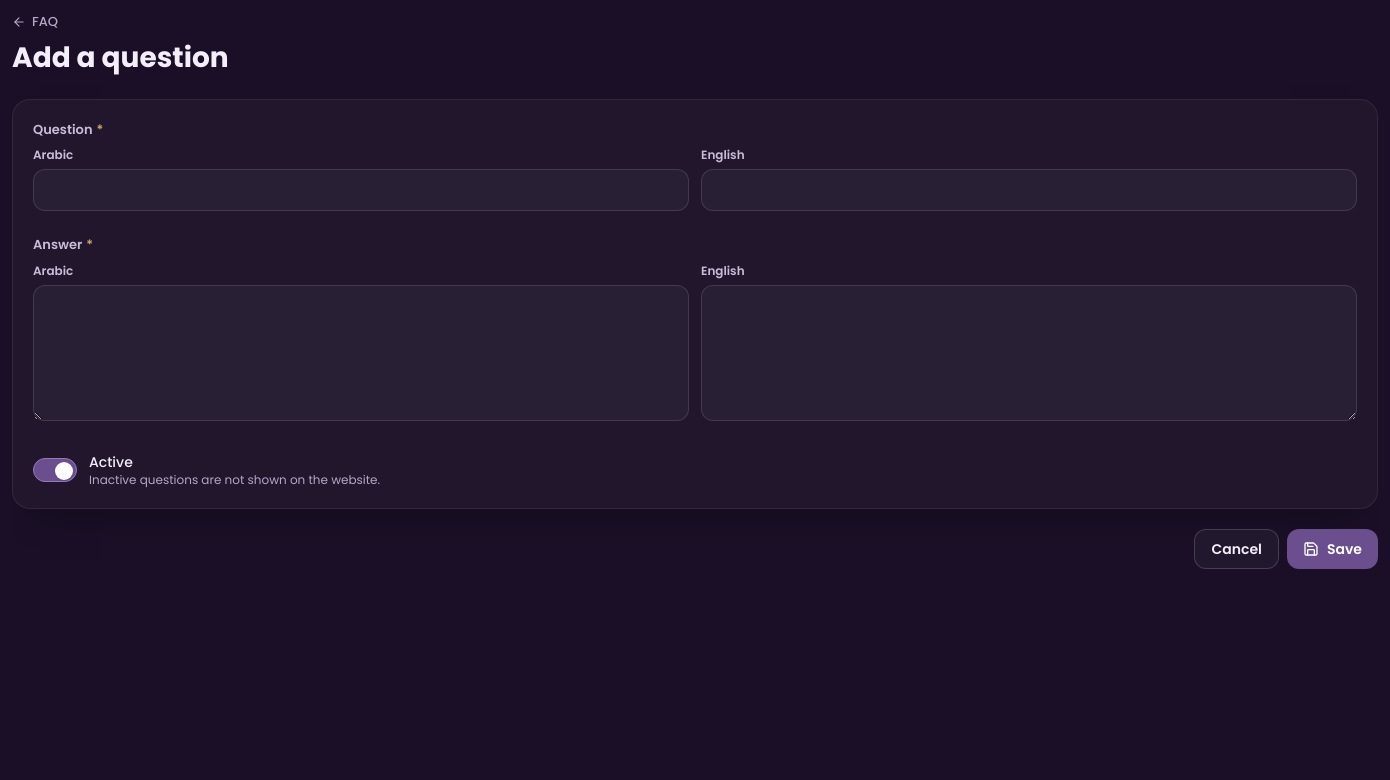
Scenario: FaqCreate › creates the question, toasts and returns to the list
The width and height of the screenshot is (1390, 780).
Type "سؤال" into the field named "Question (Arabic)" at (361, 190), box [33,169,689,211]
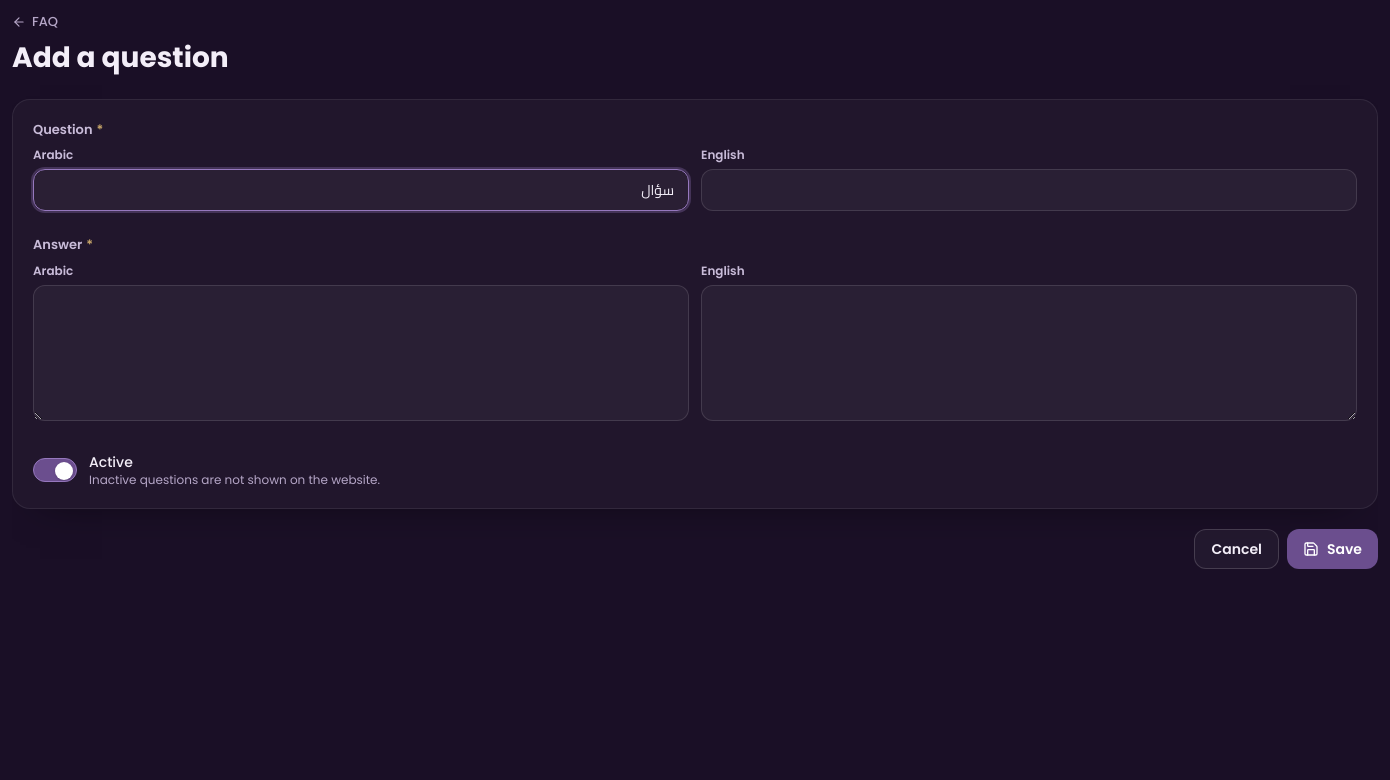
Type "A question?" into the field named "Question (English)" at (1029, 190), box [701,169,1357,211]
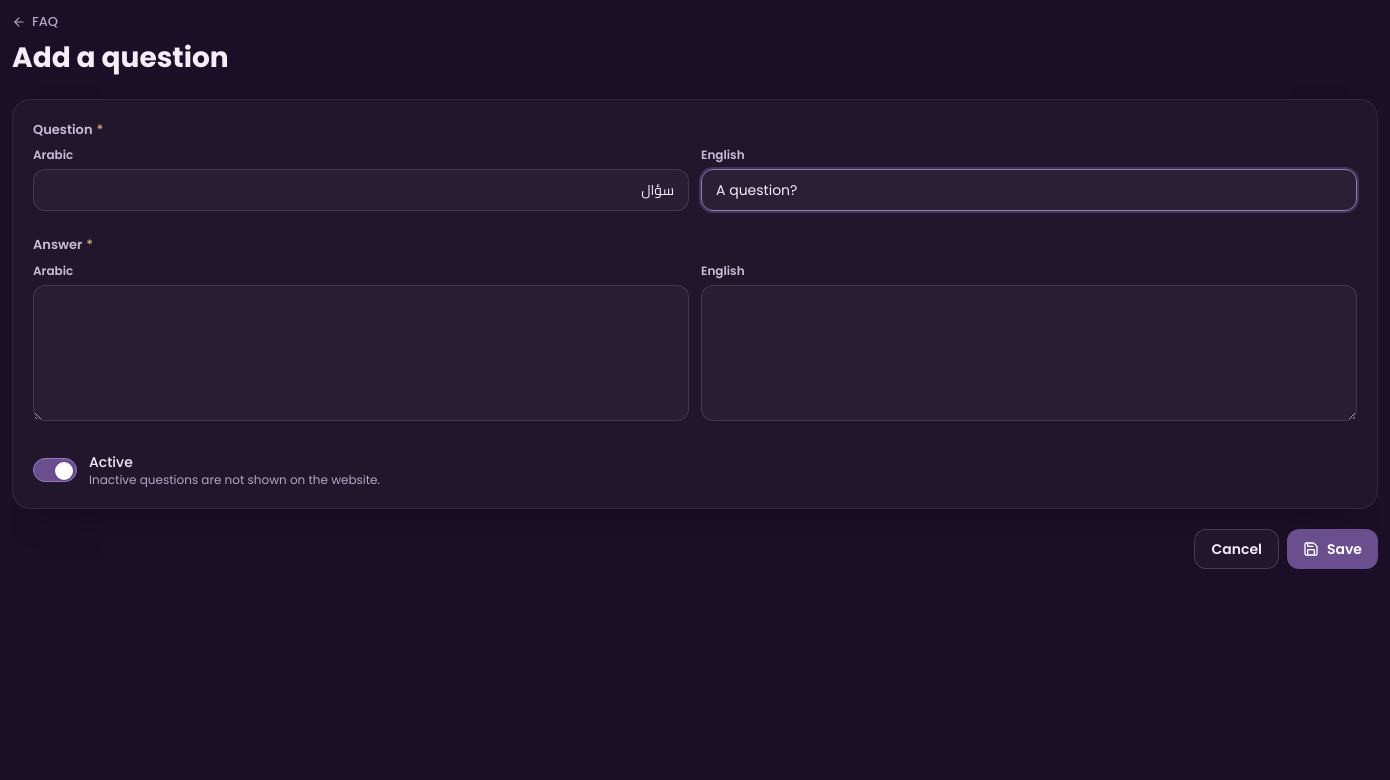
Type "جواب" into the text box named "Answer (Arabic)" at (361, 353), box [33,285,689,421]
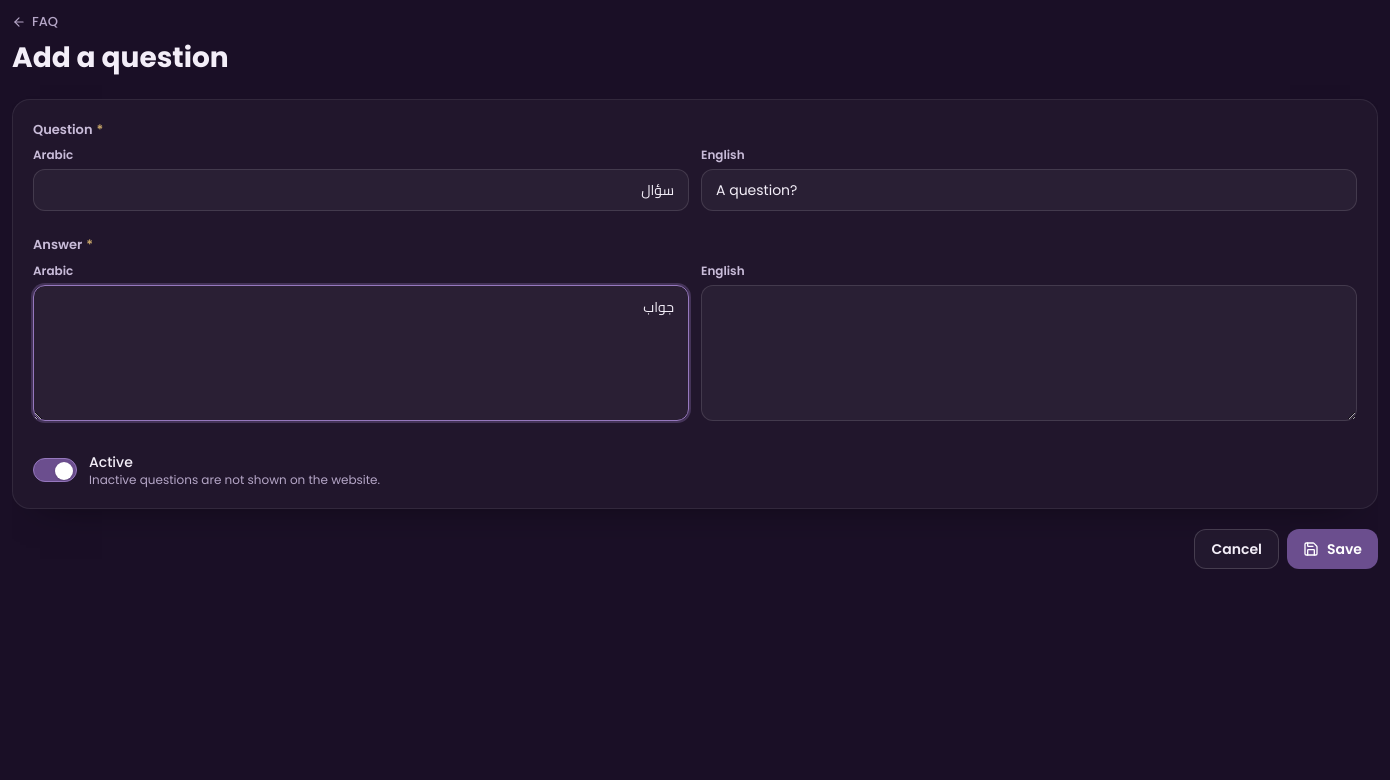
Type "An answer" into the text box named "Answer (English)" at (1029, 353), box [701,285,1357,421]
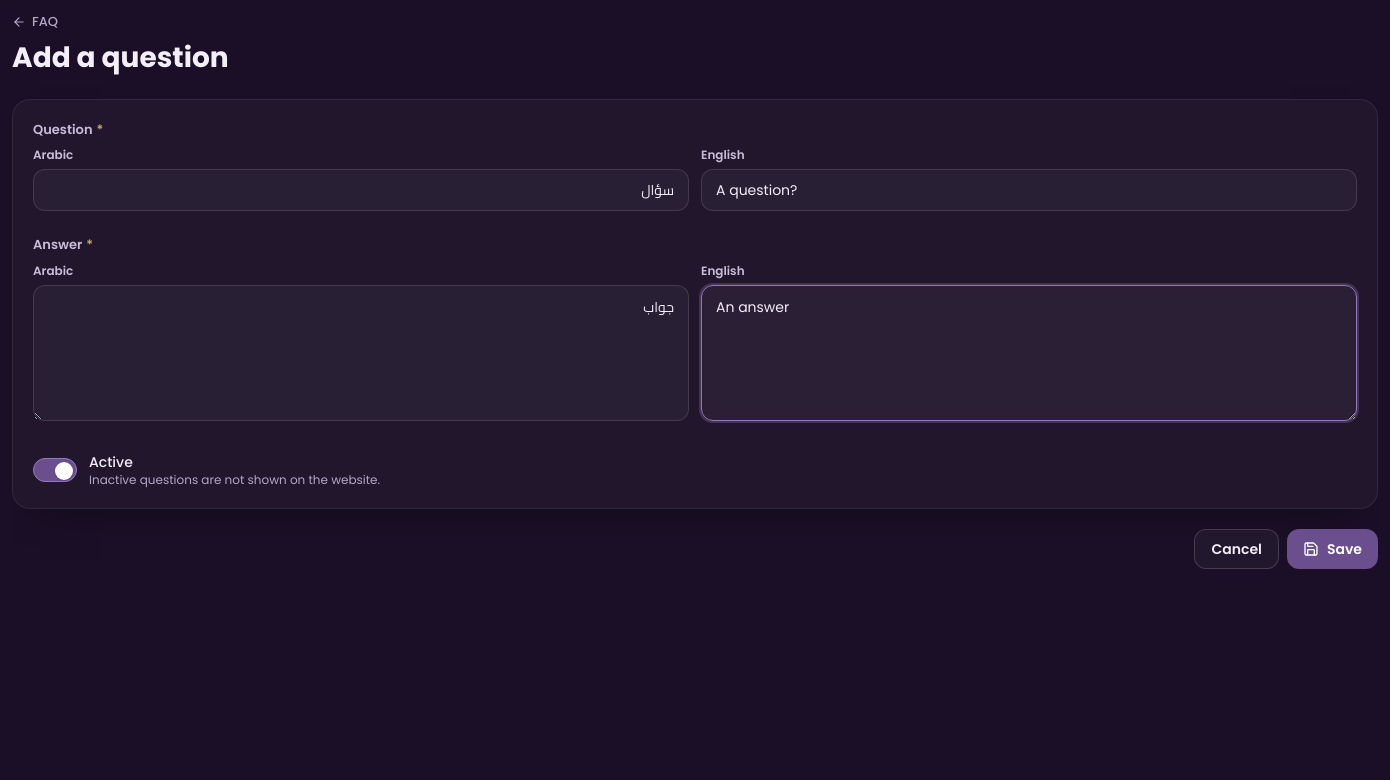
Click the switch named "Active" at (55, 470), box [33,458,77,482]
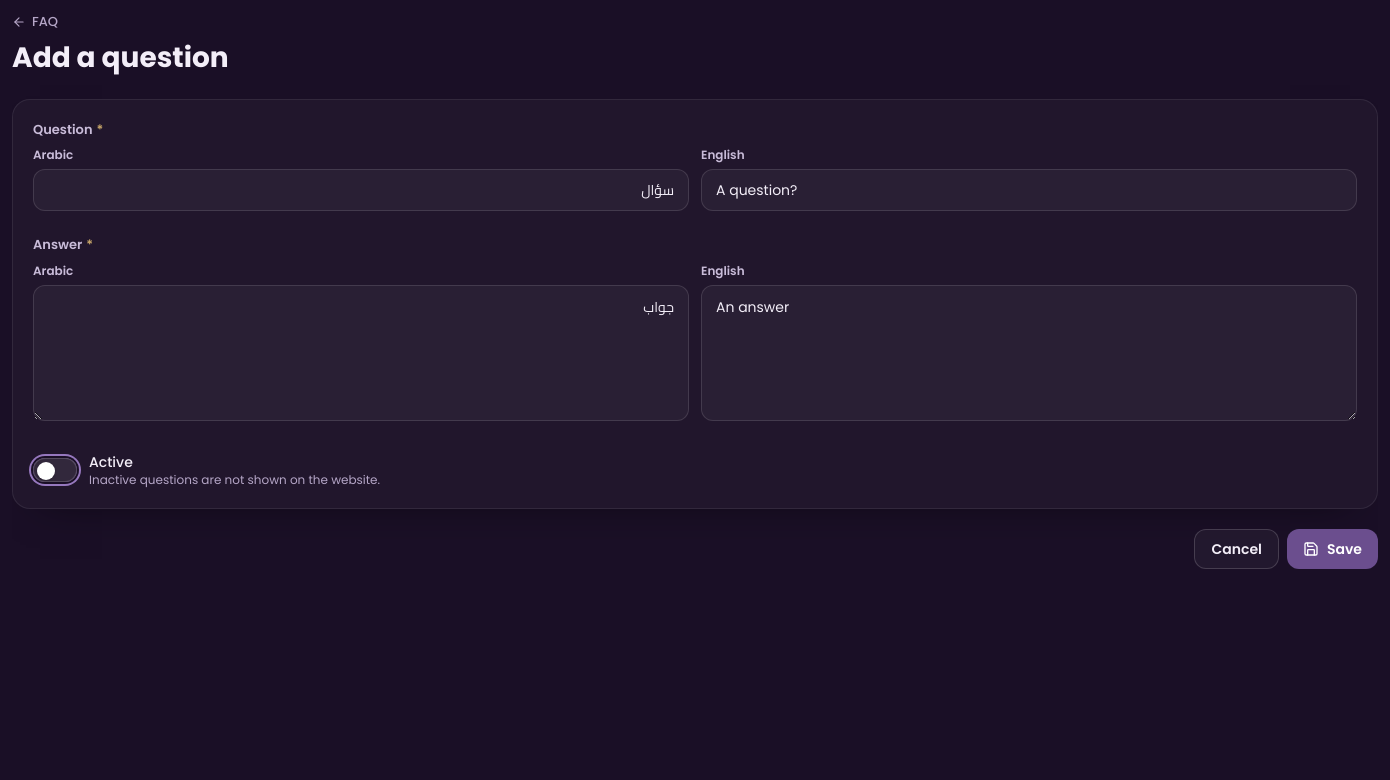
Click the button "Save" at (1332, 548), box [1287,528,1378,568]
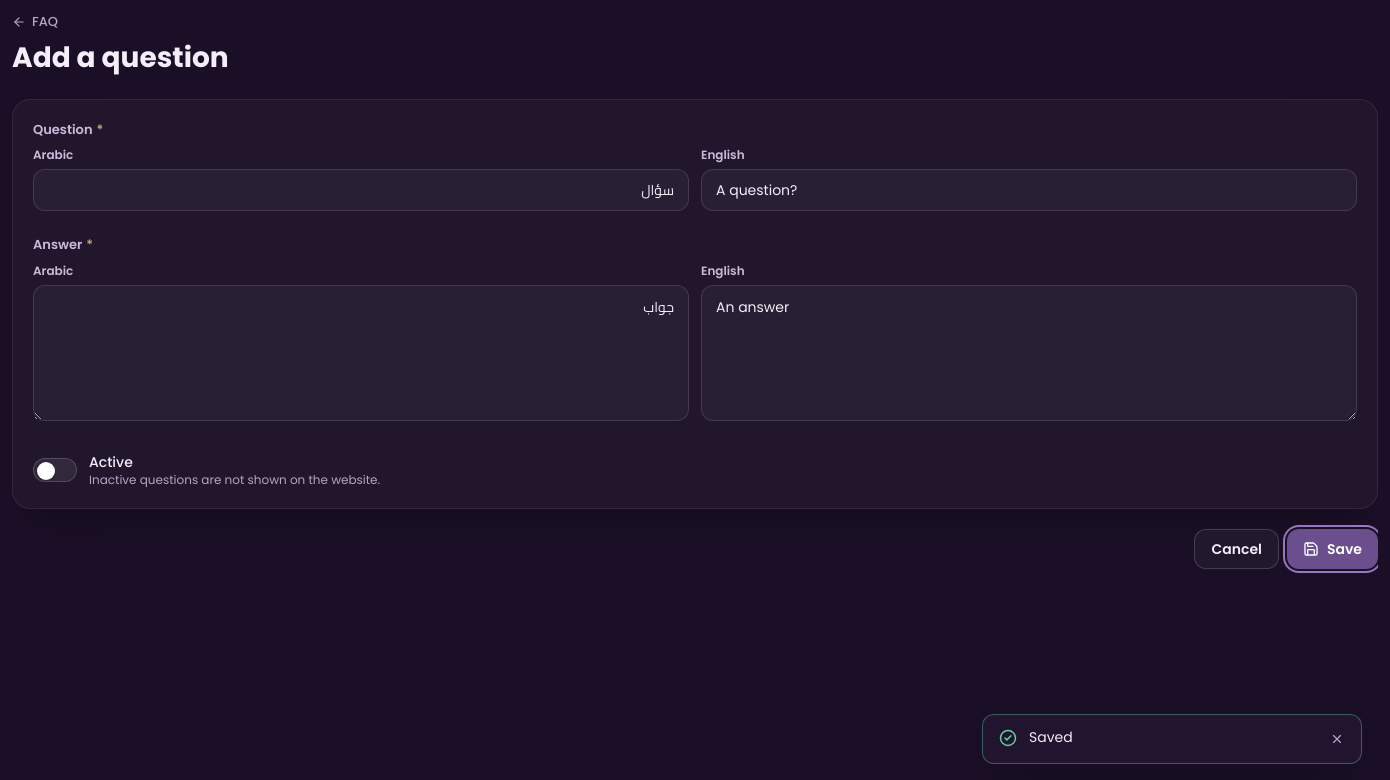
expect the text "Saved" is shown: met, box [1029,727,1073,747]
